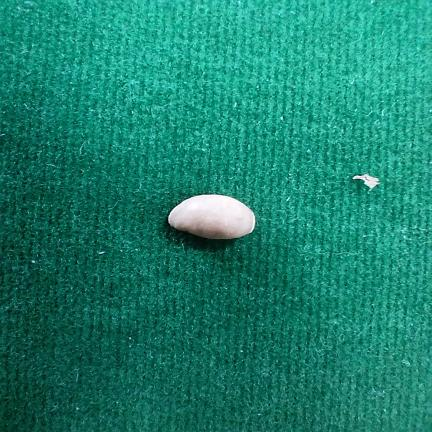shell: (168, 195, 255, 239)
